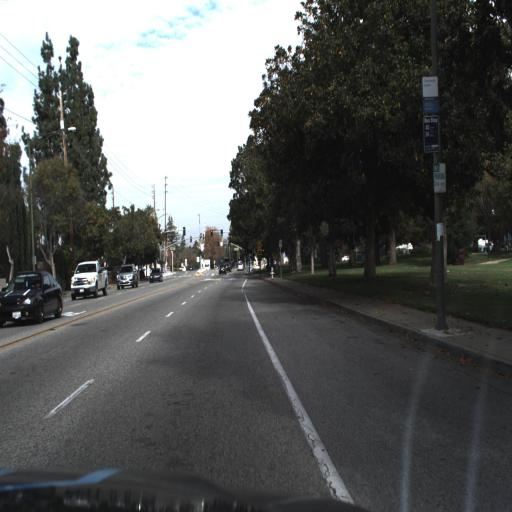car: (0, 273, 64, 328), (69, 258, 108, 300), (115, 263, 139, 291), (214, 264, 228, 283), (149, 268, 164, 285), (230, 261, 241, 280)
